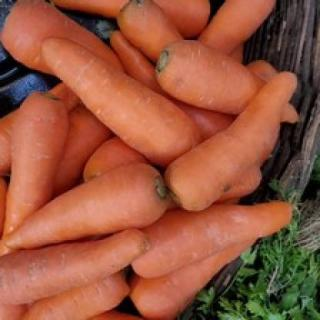Wortel: (40, 34, 204, 168), (166, 71, 300, 214), (1, 161, 168, 249), (131, 201, 297, 281), (157, 37, 271, 117)
